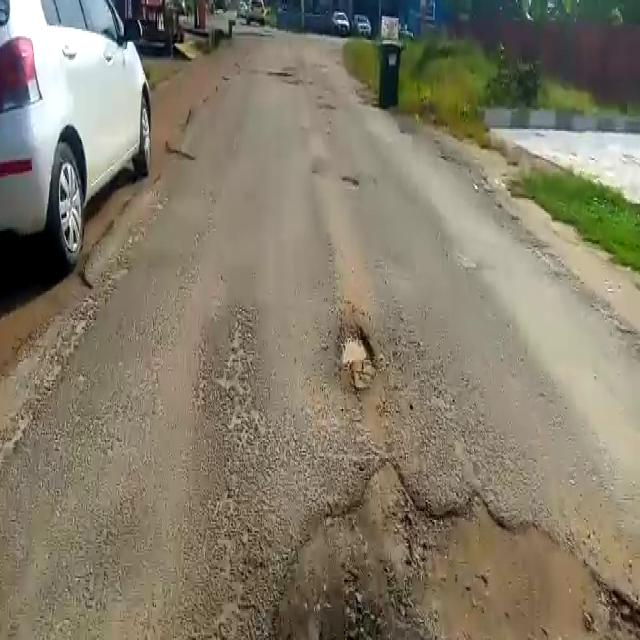Pothole: (268, 473, 640, 638), (338, 313, 376, 390)
